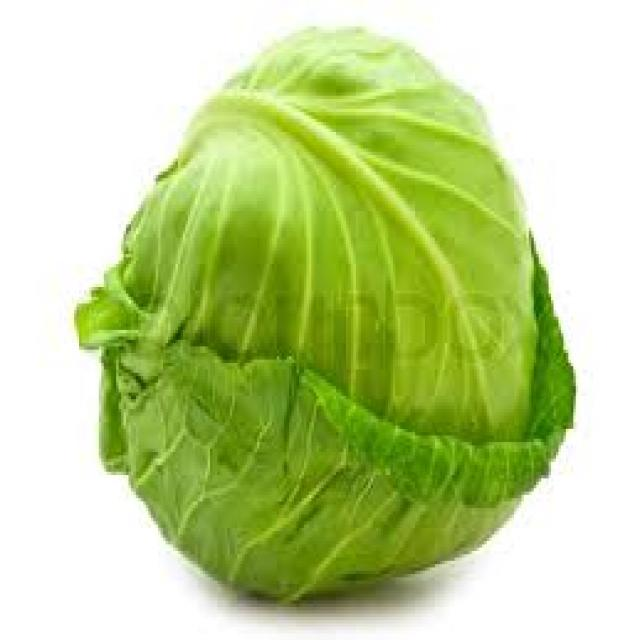organic waste: (69, 26, 576, 604)
